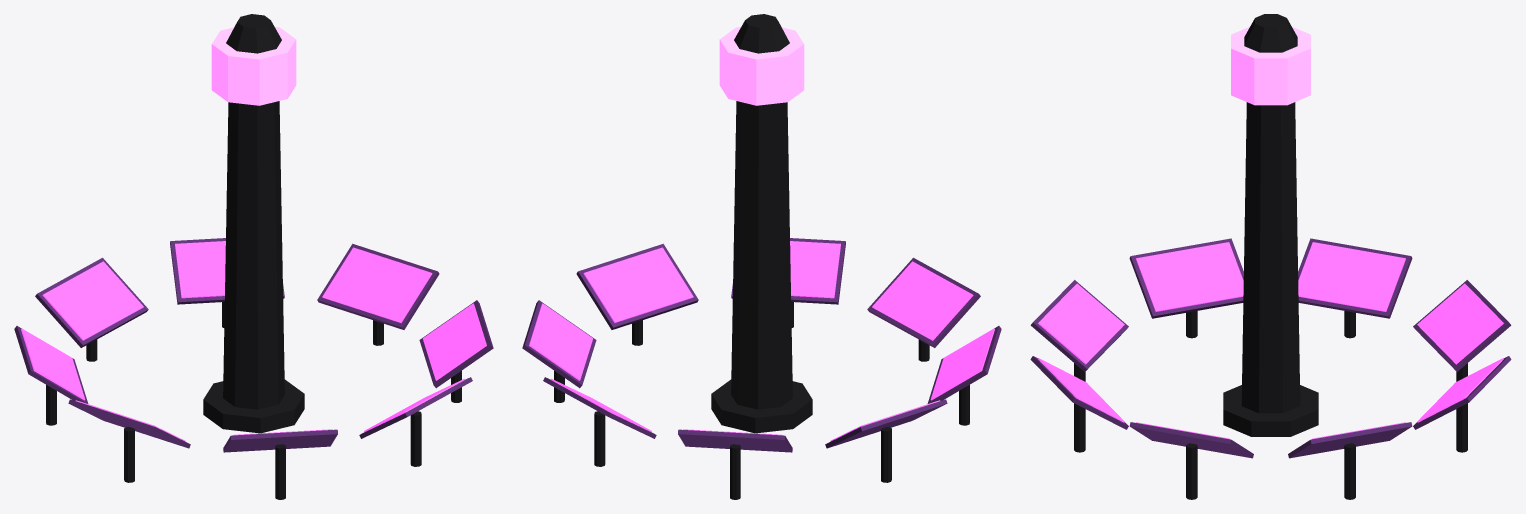
File: Champ_UV_Solaire.glb
The picture shows the model from 3 angles, left to right: view 1: azimuth 30°, elevation 25°; view 2: azimuth 150°, elevation 25°; view 3: azimuth 270°, elevation 25°; orthographic projection.
Parts seen in each view (by area): view 1: Champ_UV_Solaire; view 2: Champ_UV_Solaire; view 3: Champ_UV_Solaire.
Boxes of the visible parts, left/top/right/bottom form: Champ_UV_Solaire: left=14, top=14, right=493, bottom=499; Champ_UV_Solaire: left=522, top=14, right=1001, bottom=499; Champ_UV_Solaire: left=1030, top=14, right=1511, bottom=499.
Bounding box in the file's own units: 8.37 × 7.6 × 8.37.
